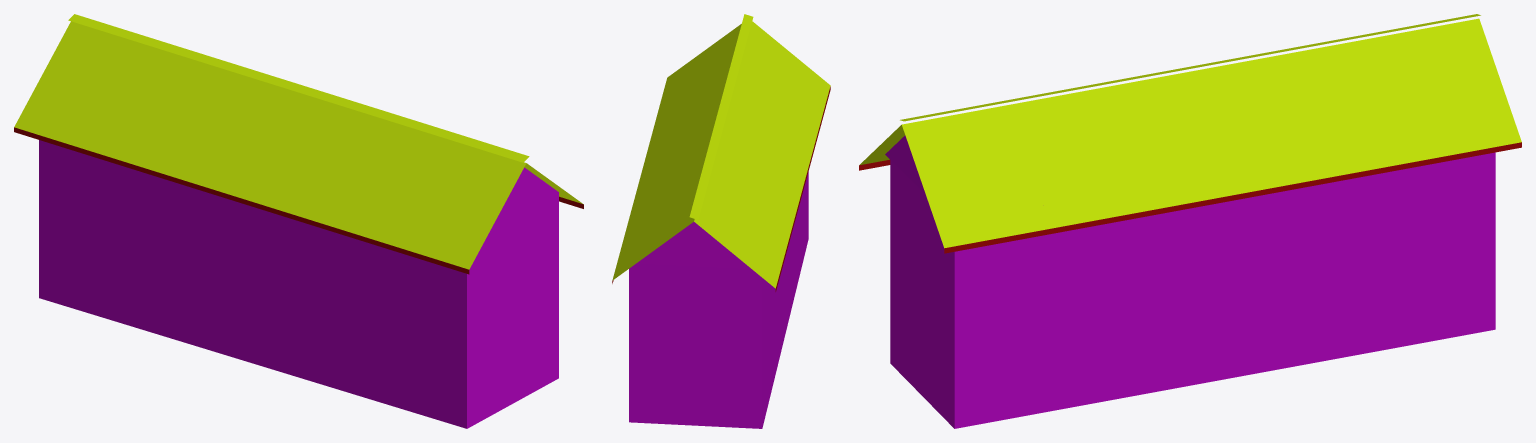
Rendered from vzc_32.glb.
3 views of the same model, side by side, from view 1: azimuth 30°, elevation 25°; view 2: azimuth 150°, elevation 25°; view 3: azimuth 270°, elevation 25° (orthographic). The views are drawn at different scales.
Visible parts, largest first — view 1: vzc_32; view 2: vzc_32; view 3: vzc_32.
Part boxes in pixels (x1,y1,x2,y2): vzc_32: (14, 14, 583, 428); vzc_32: (612, 14, 830, 428); vzc_32: (859, 14, 1521, 428).
Size of the model in its own units: 9.06 by 6.24 by 13.43.
